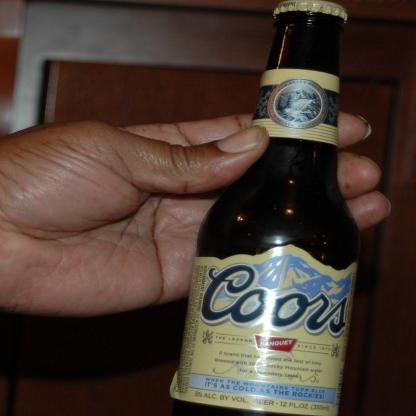drinking: (171, 0, 362, 415)
